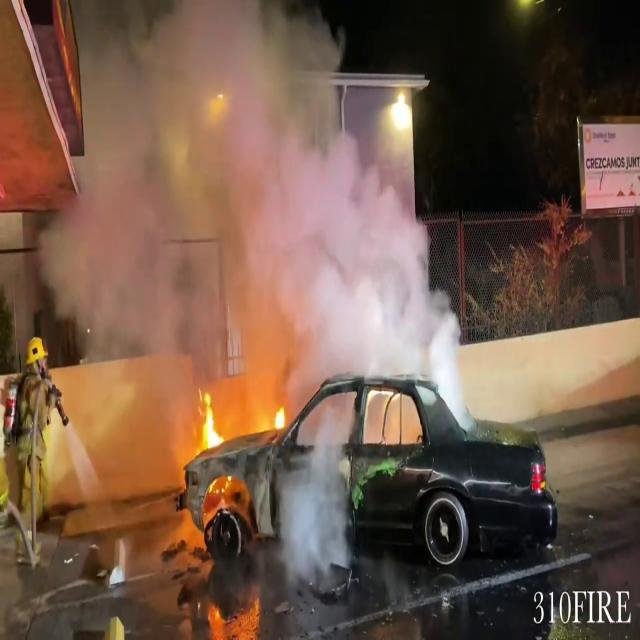Fire: (188, 389, 230, 462)
Smoke: (34, 0, 470, 420)
